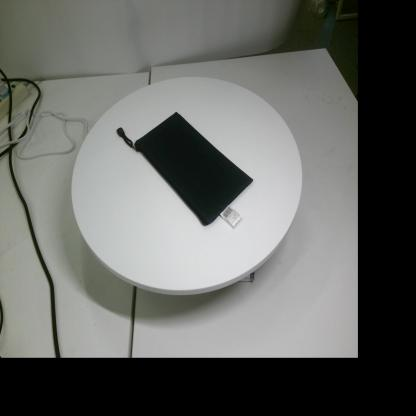Stationery: (117, 112, 253, 228)
